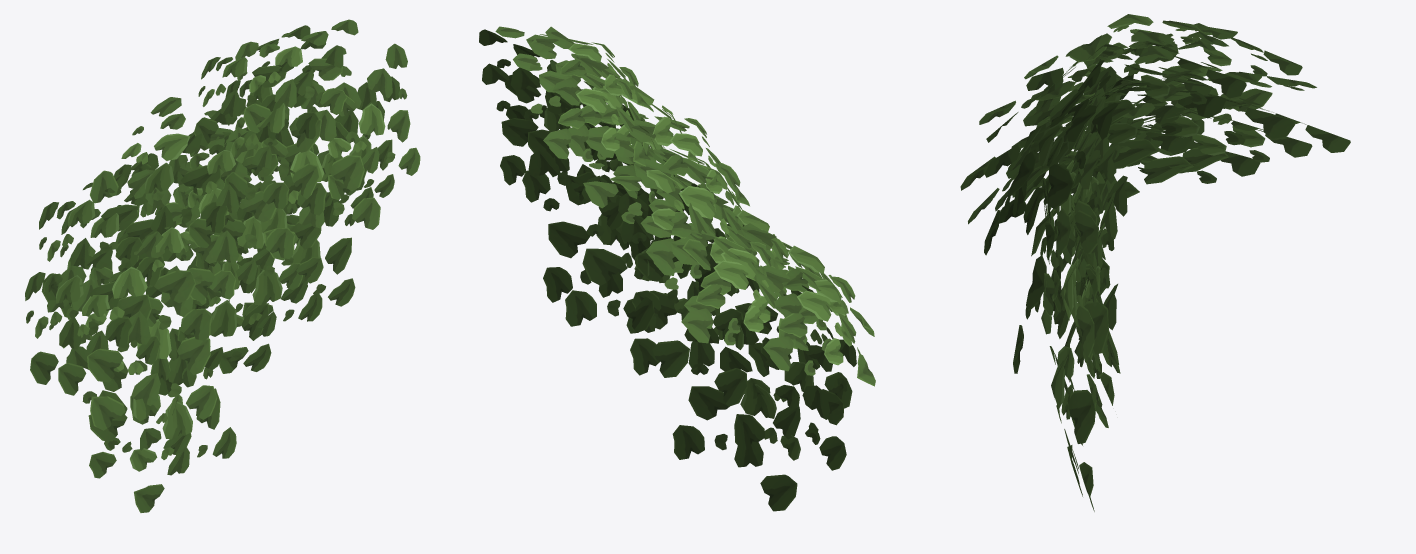
The model's file is SM_Env_Vines_03.fbx.
3 views of the same model, side by side, from view 1: azimuth 30°, elevation 25°; view 2: azimuth 150°, elevation 25°; view 3: azimuth 270°, elevation 25° (orthographic). The views are drawn at different scales.
Visible parts, largest first — view 1: SM_Env_Vines_03_LOD0; view 2: SM_Env_Vines_03_LOD0; view 3: SM_Env_Vines_03_LOD0.
Boxes of the visible parts, x1,y1,x2,y2 form: SM_Env_Vines_03_LOD0: [25, 19, 420, 512]; SM_Env_Vines_03_LOD0: [479, 26, 875, 511]; SM_Env_Vines_03_LOD0: [960, 14, 1350, 511].
Size of what is drawn, in the model's own units: 466 by 489 by 329.
